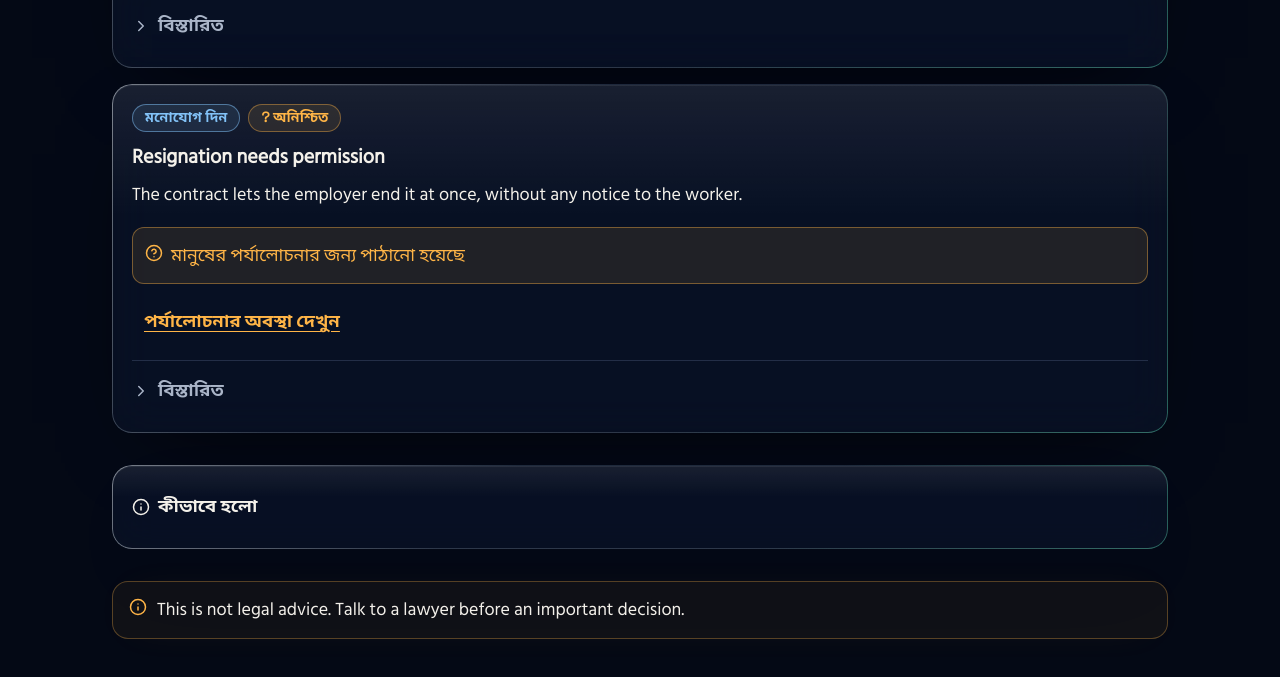
Test: AnalysisPage results › FR-77 shows the models and prompt versions that made the result
(page scrolled)
Click the heading "কীভাবে হলো": (195, 506) 132,492 -> 257,521
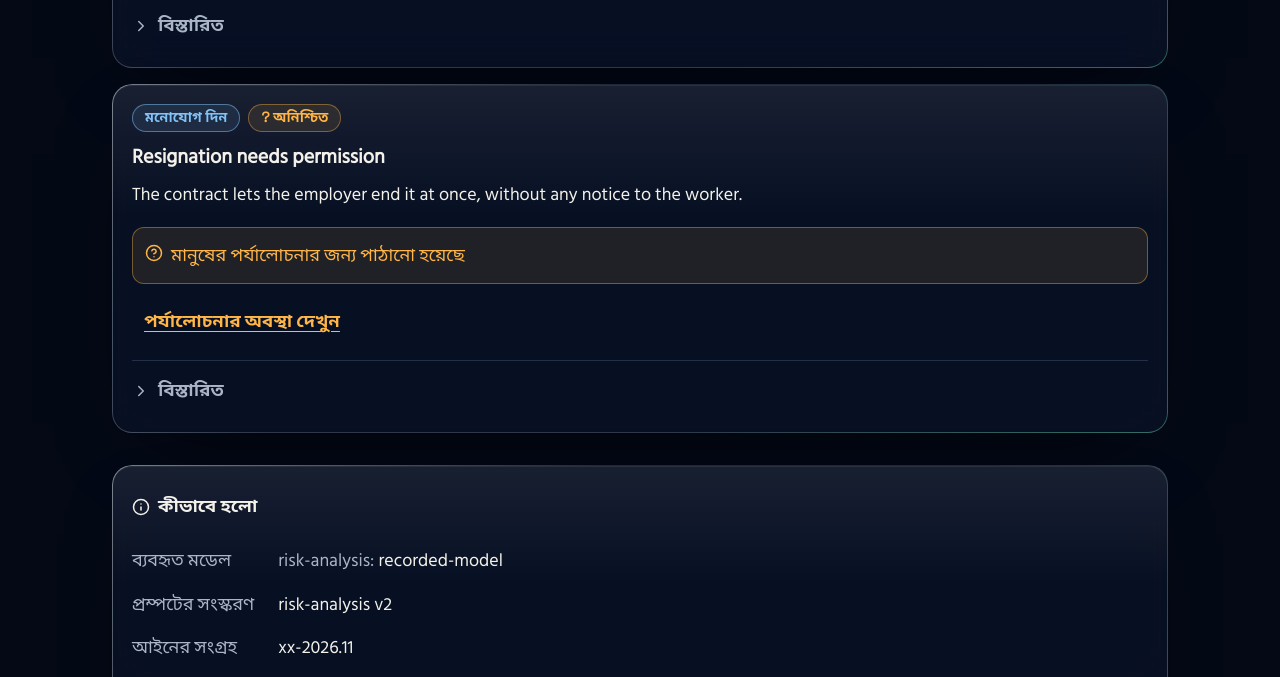
expect the list item "risk-analysis: recorded-model" is shown: met, box 278,546 -> 503,575
expect the text "risk-analysis v2" is shown: met, box 278,590 -> 392,618
expect the text "xx-2026.11" is shown: met, box 278,633 -> 353,662
